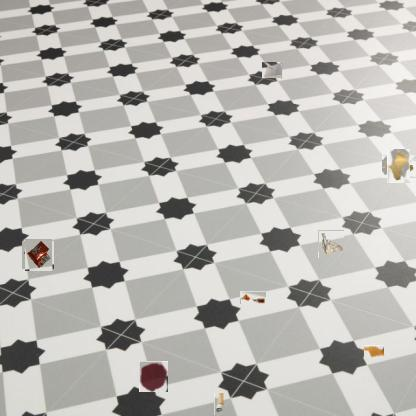dirty: (24, 240, 53, 270), (385, 152, 413, 181), (318, 230, 344, 258), (240, 291, 266, 304), (262, 62, 282, 78), (214, 394, 225, 416)
liquid: (139, 362, 168, 391), (364, 345, 384, 358)
